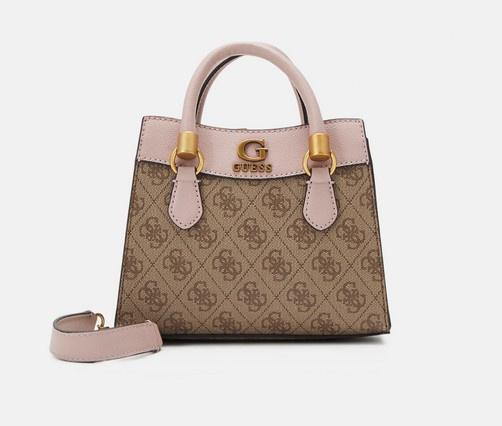GUESS: (233, 163, 272, 171)
